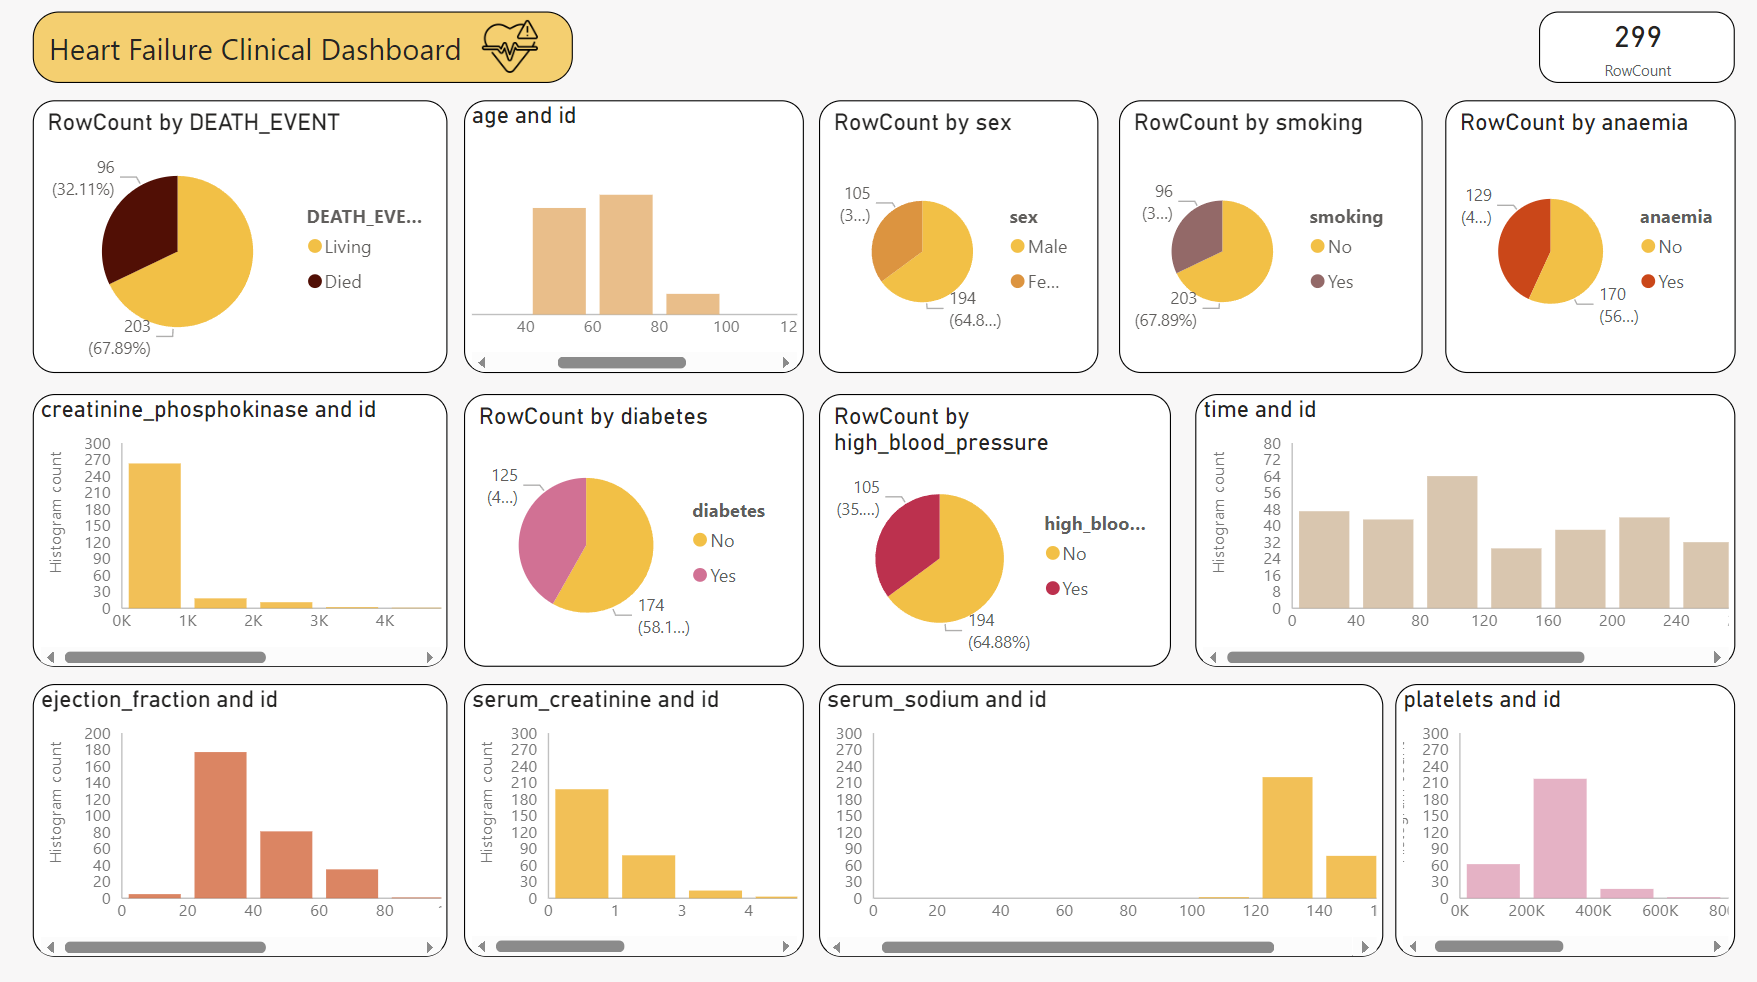

The page's visual inventory and layout, read from the dashboard file:
{"tool":"powerbi","page":{"name":"Page 1","canvas":[1280,720],"ordinal":0},"visuals":[{"type":"histogramXY6E3D5691159E41859A007A262D4B0E9E","fields":{"xAxis":["heart_failure_clinical_records_powerbi.age"],"yAxis":["heart_failure_clinical_records_powerbi.id"]},"box":[338.4,73.5,247.2,198.5],"z":0},{"type":"pieChart","fields":{"Category":["heart_failure_clinical_records_powerbi.DEATH_EVENT"],"Y":["heart_failure_clinical_records_powerbi.RowCount"]},"box":[24.8,73.5,301.2,198.5],"z":1000},{"type":"pieChart","fields":{"Y":["heart_failure_clinical_records_powerbi.RowCount"],"Category":["heart_failure_clinical_records_powerbi.anaemia"]},"box":[1051.8,73.6,210.9,198.2],"z":2000},{"type":"textbox","box":[24.8,8.9,392.5,52.3],"z":3000},{"type":"image","box":[326,8.9,89.5,50.5],"z":4000},{"type":"card","fields":{"Values":["heart_failure_clinical_records_powerbi.RowCount"]},"box":[1119.8,8.9,142.6,52.3],"z":5000},{"type":"pieChart","fields":{"Y":["heart_failure_clinical_records_powerbi.RowCount"],"Category":["heart_failure_clinical_records_powerbi.diabetes"]},"box":[338.4,287,247.2,198.5],"z":6000},{"type":"pieChart","fields":{"Y":["heart_failure_clinical_records_powerbi.RowCount"],"Category":["heart_failure_clinical_records_powerbi.high_blood_pressure"]},"box":[596.2,287,256,198.5],"z":7000},{"type":"pieChart","fields":{"Y":["heart_failure_clinical_records_powerbi.RowCount"],"Category":["heart_failure_clinical_records_powerbi.sex"]},"box":[596.2,73.5,202.9,198.5],"z":8000},{"type":"pieChart","fields":{"Category":["heart_failure_clinical_records_powerbi.smoking"],"Y":["heart_failure_clinical_records_powerbi.RowCount"]},"box":[814.5,73.6,220.9,198.2],"z":9000},{"type":"histogramXY6E3D5691159E41859A007A262D4B0E9E","fields":{"xAxis":["heart_failure_clinical_records_powerbi.creatinine_phosphokinase"],"yAxis":["heart_failure_clinical_records_powerbi.id"]},"box":[24.8,287,301.2,198.5],"z":10000},{"type":"histogramXY6E3D5691159E41859A007A262D4B0E9E","fields":{"xAxis":["heart_failure_clinical_records_powerbi.time"],"yAxis":["heart_failure_clinical_records_powerbi.id"]},"box":[870,287,392.5,198.5],"z":11000},{"type":"histogramXY6E3D5691159E41859A007A262D4B0E9E","fields":{"xAxis":["heart_failure_clinical_records_powerbi.ejection_fraction"],"yAxis":["heart_failure_clinical_records_powerbi.id"]},"box":[24.8,497.9,301.2,198.5],"z":12000},{"type":"histogramXY6E3D5691159E41859A007A262D4B0E9E","fields":{"xAxis":["heart_failure_clinical_records_powerbi.platelets"],"yAxis":["heart_failure_clinical_records_powerbi.id"]},"box":[1015.3,497.9,247.2,198.5],"z":13000},{"type":"histogramXY6E3D5691159E41859A007A262D4B0E9E","fields":{"xAxis":["heart_failure_clinical_records_powerbi.serum_creatinine"],"yAxis":["heart_failure_clinical_records_powerbi.id"]},"box":[338.4,497.9,247.2,198.5],"z":14000},{"type":"histogramXY6E3D5691159E41859A007A262D4B0E9E","fields":{"xAxis":["heart_failure_clinical_records_powerbi.serum_sodium"],"yAxis":["heart_failure_clinical_records_powerbi.id"]},"box":[596.2,497.9,410.2,198.5],"z":15000}]}

Visuals, with their boxes in screenshot pixels (x1, y1, x2, y2), scaled from the page's 1280x720 canvas onto the 1757x982 screenshot:
histogramXY6E3D5691159E41859A007A262D4B0E9E - heart_failure_clinical_records_powerbi.age x heart_failure_clinical_records_powerbi.id: rect(465, 100, 804, 371)
pieChart - heart_failure_clinical_records_powerbi.DEATH_EVENT x heart_failure_clinical_records_powerbi.RowCount: rect(34, 100, 447, 371)
pieChart - heart_failure_clinical_records_powerbi.RowCount x heart_failure_clinical_records_powerbi.anaemia: rect(1444, 100, 1733, 371)
textbox: rect(34, 12, 573, 83)
image: rect(447, 12, 570, 81)
card - heart_failure_clinical_records_powerbi.RowCount: rect(1537, 12, 1733, 83)
pieChart - heart_failure_clinical_records_powerbi.RowCount x heart_failure_clinical_records_powerbi.diabetes: rect(465, 391, 804, 662)
pieChart - heart_failure_clinical_records_powerbi.RowCount x heart_failure_clinical_records_powerbi.high_blood_pressure: rect(818, 391, 1170, 662)
pieChart - heart_failure_clinical_records_powerbi.RowCount x heart_failure_clinical_records_powerbi.sex: rect(818, 100, 1097, 371)
pieChart - heart_failure_clinical_records_powerbi.smoking x heart_failure_clinical_records_powerbi.RowCount: rect(1118, 100, 1421, 371)
histogramXY6E3D5691159E41859A007A262D4B0E9E - heart_failure_clinical_records_powerbi.creatinine_phosphokinase x heart_failure_clinical_records_powerbi.id: rect(34, 391, 447, 662)
histogramXY6E3D5691159E41859A007A262D4B0E9E - heart_failure_clinical_records_powerbi.time x heart_failure_clinical_records_powerbi.id: rect(1194, 391, 1733, 662)
histogramXY6E3D5691159E41859A007A262D4B0E9E - heart_failure_clinical_records_powerbi.ejection_fraction x heart_failure_clinical_records_powerbi.id: rect(34, 679, 447, 950)
histogramXY6E3D5691159E41859A007A262D4B0E9E - heart_failure_clinical_records_powerbi.platelets x heart_failure_clinical_records_powerbi.id: rect(1394, 679, 1733, 950)
histogramXY6E3D5691159E41859A007A262D4B0E9E - heart_failure_clinical_records_powerbi.serum_creatinine x heart_failure_clinical_records_powerbi.id: rect(465, 679, 804, 950)
histogramXY6E3D5691159E41859A007A262D4B0E9E - heart_failure_clinical_records_powerbi.serum_sodium x heart_failure_clinical_records_powerbi.id: rect(818, 679, 1381, 950)
